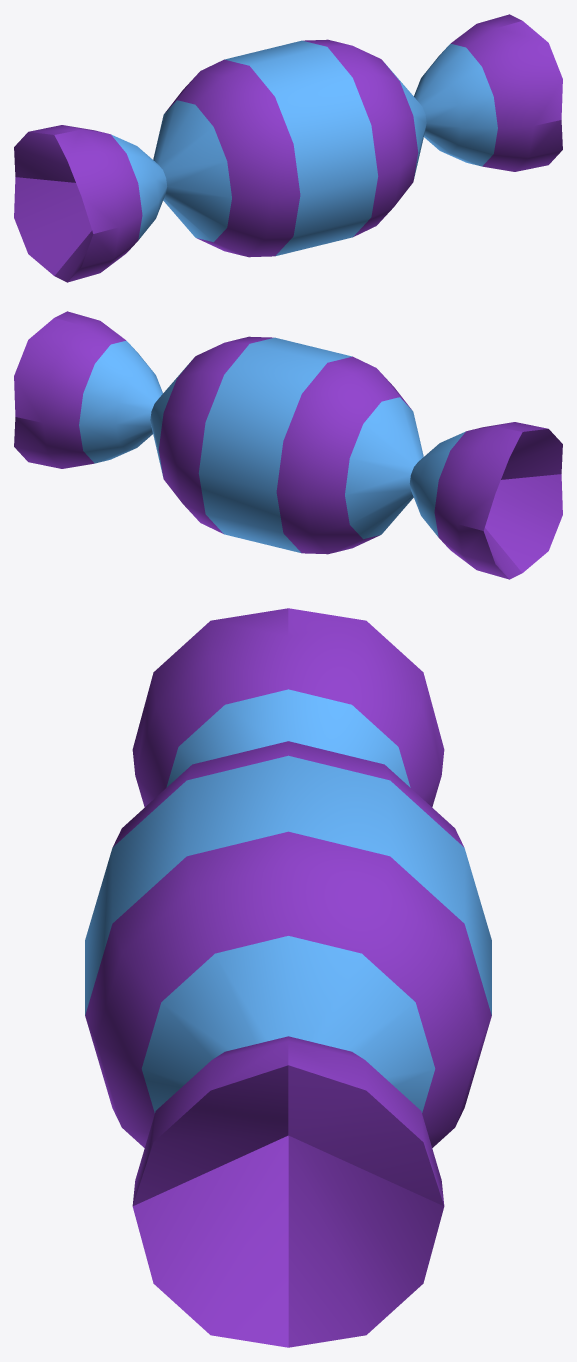
Rendered from candyC.glb.
3 renders of one model, top to bottom at view 1: azimuth 30°, elevation 25°; view 2: azimuth 150°, elevation 25°; view 3: azimuth 270°, elevation 25°, orthographic. The views are drawn at different scales.
Parts seen in each view (by area): view 1: candyC; view 2: candyC; view 3: candyC.
Boxes of the visible parts, bbox=[...] form: candyC: bbox=[14, 14, 562, 282]; candyC: bbox=[14, 311, 562, 579]; candyC: bbox=[85, 608, 491, 1347].
Size of the model in its own units: 0.2908 by 0.1064 by 0.1064.
